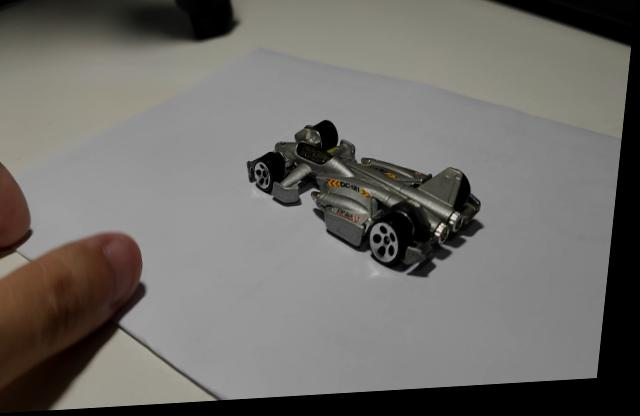05_DC121: (249, 125, 491, 285)
